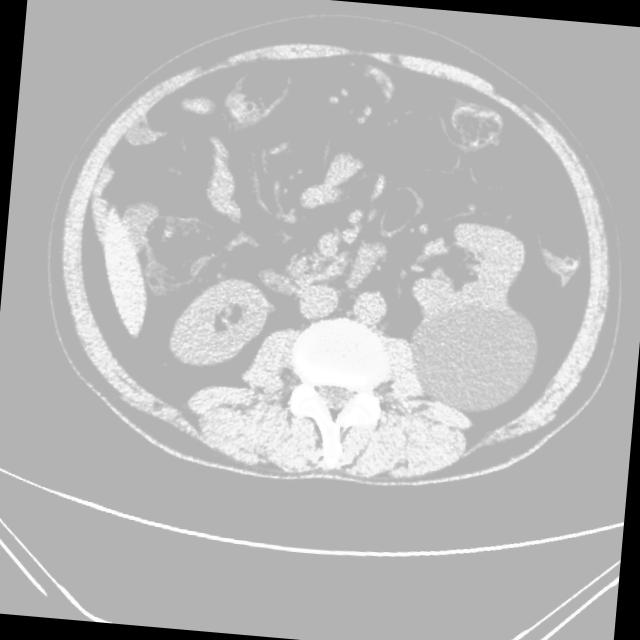cysts: (37, 18, 628, 505)
